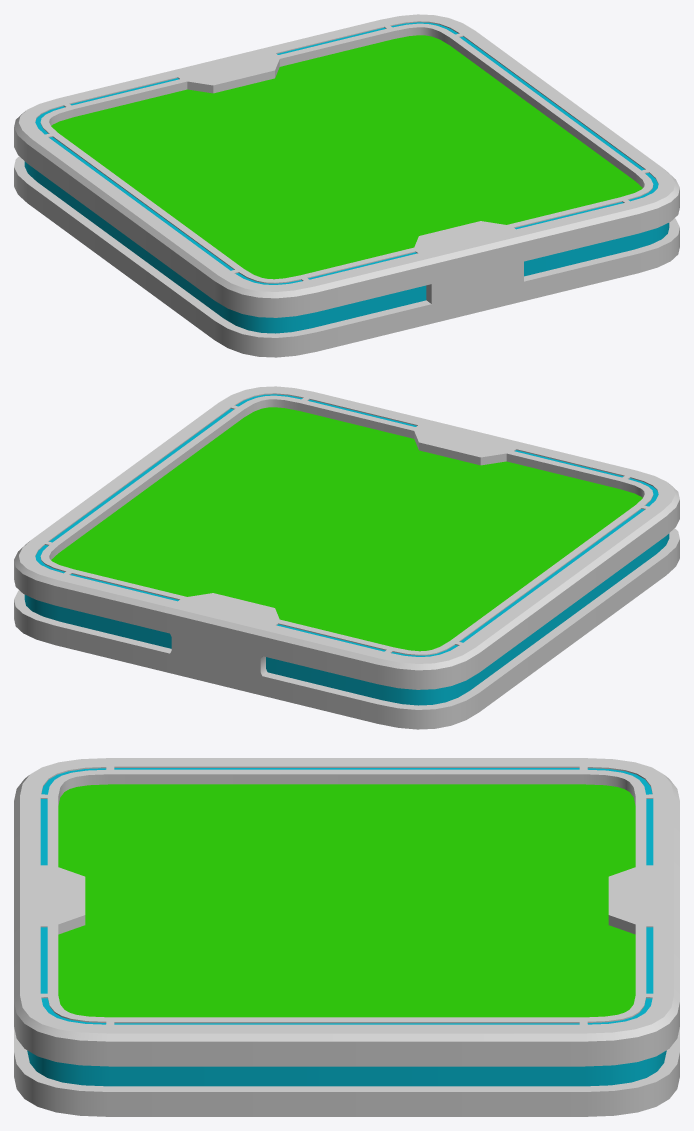
Rendered from speed1Small.fbx.
The picture shows the model from 3 angles, top to bottom: view 1: azimuth 30°, elevation 25°; view 2: azimuth 150°, elevation 25°; view 3: azimuth 270°, elevation 25°; orthographic projection. The views are drawn at different scales.
Parts seen in each view (by area): view 1: speed1small; view 2: speed1small; view 3: speed1small.
Boxes of the visible parts, x1,y1,x2,y2 form: speed1small: (14, 14, 679, 357); speed1small: (14, 386, 679, 729); speed1small: (14, 758, 679, 1116).
Bounding box in the file's own units: 0.9888 × 0.1328 × 0.9917.
